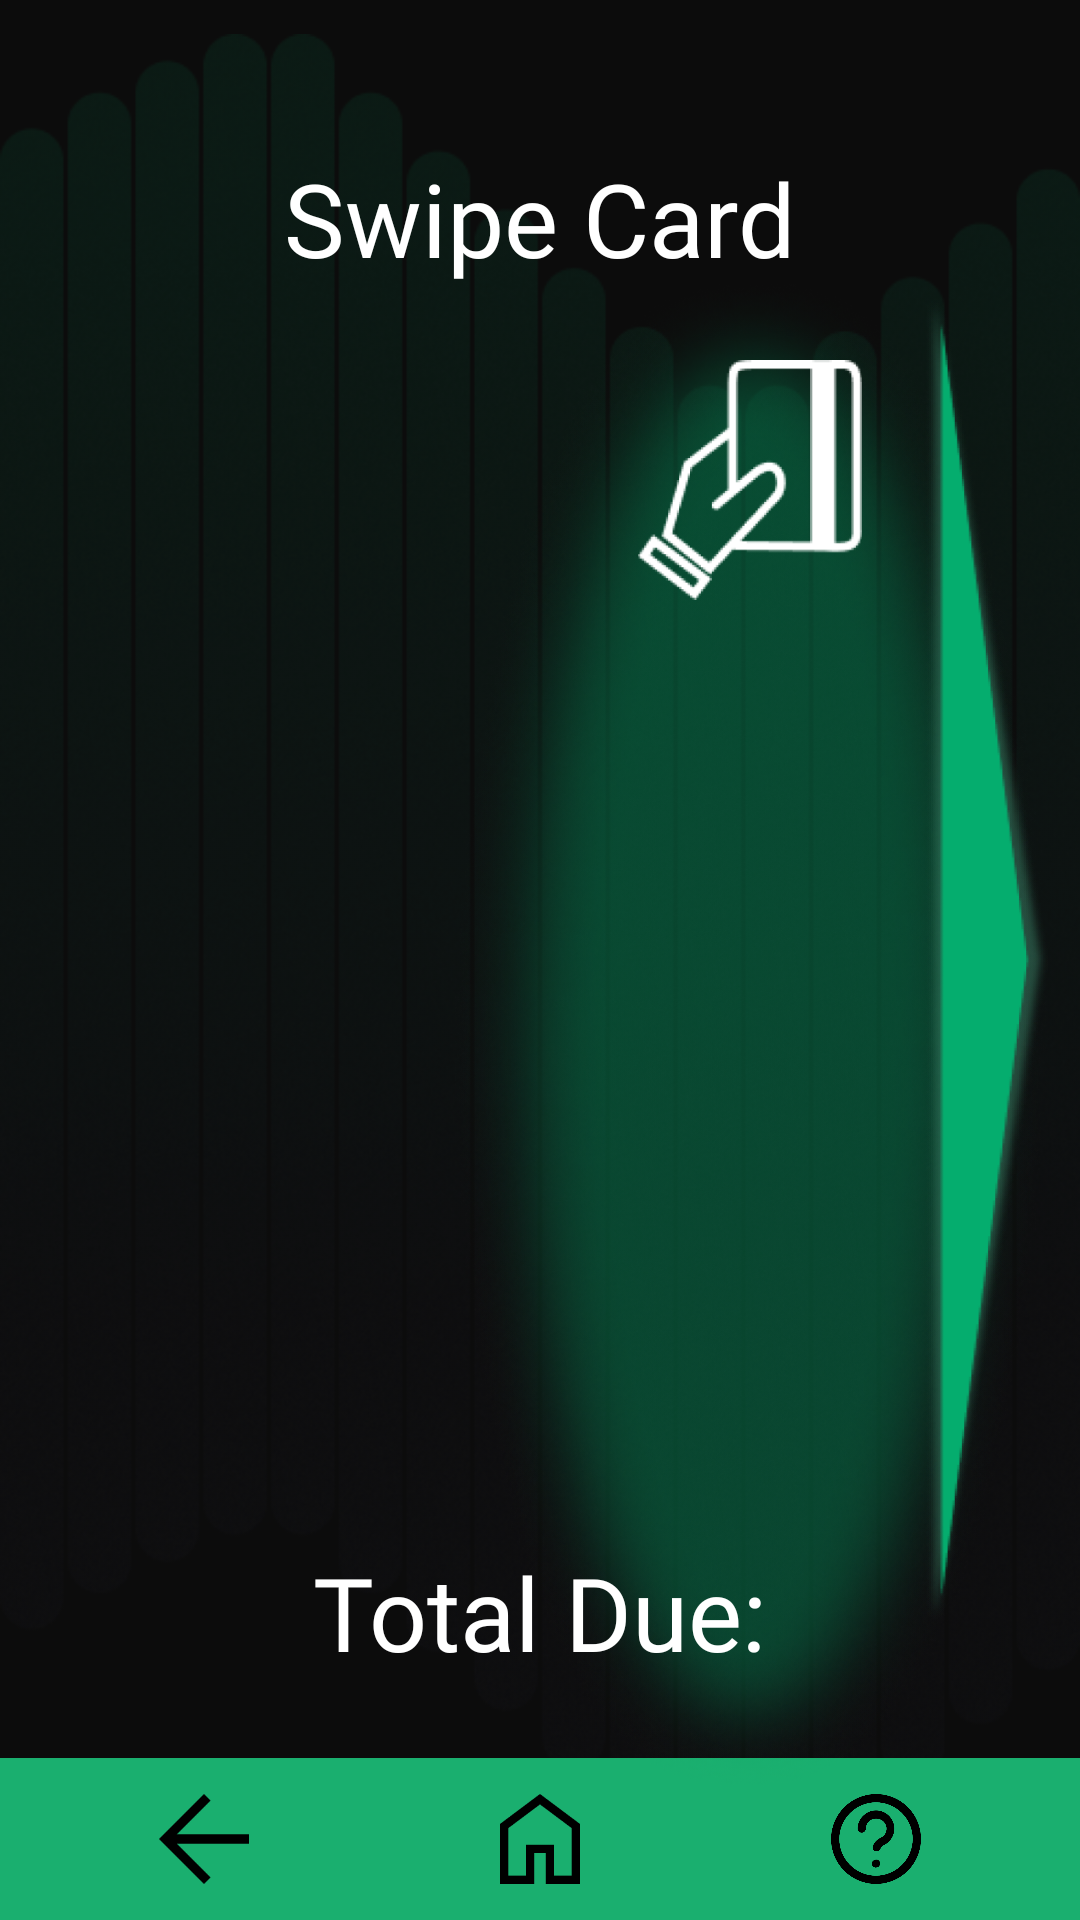

Point at icon controls on the screen. Image size 1080 × 1920, points as (x=x, y=y).
Back Button: (x=204, y=1839)
components swipe indication: (x=750, y=480)
Home Button: (x=540, y=1839)
